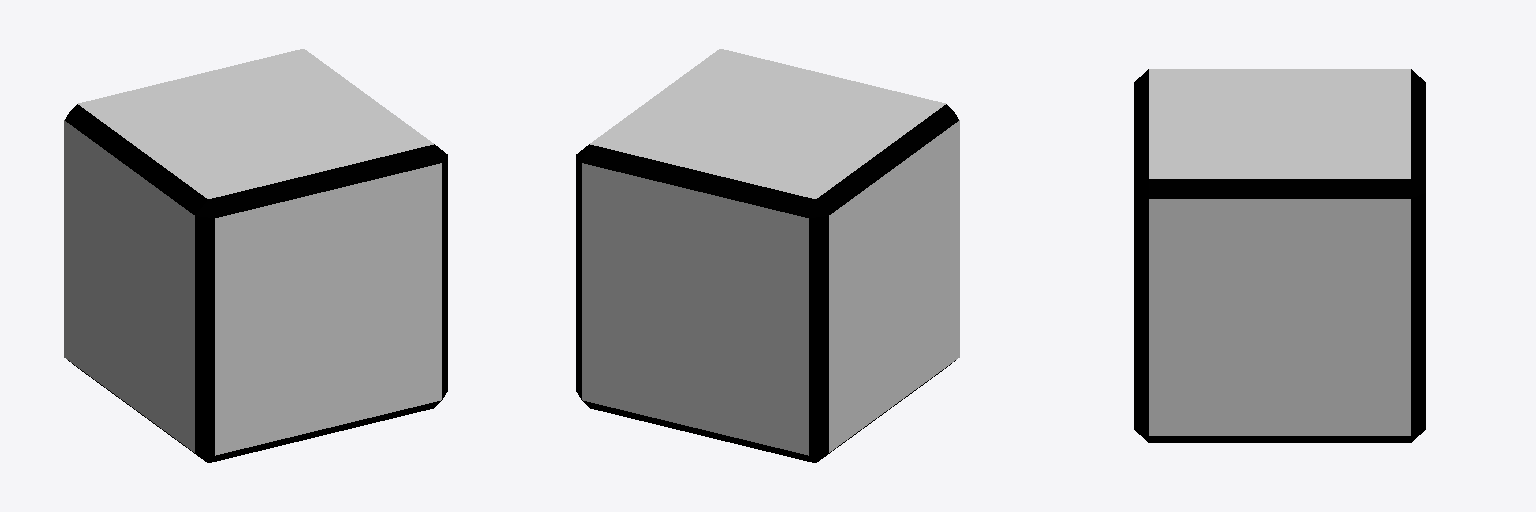
File: block.obj
3 renders of one model, left to right at view 1: azimuth 30°, elevation 25°; view 2: azimuth 150°, elevation 25°; view 3: azimuth 270°, elevation 25°, orthographic.
Parts seen in each view (by area): view 1: Cube; view 2: Cube; view 3: Cube.
Boxes of the visible parts, x1,y1,x2,y2 form: Cube: [64, 49, 447, 462]; Cube: [576, 49, 959, 462]; Cube: [1134, 69, 1425, 442].
Size of the model in its own units: 2 by 2 by 2.